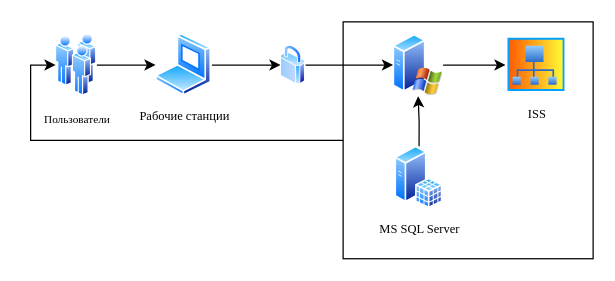
Image size: 615x281. Some labels were removed from this diagram. Here are the shapes that lost their labels. From the top down, the box of each, then its label:
(280, 45, 305, 84): Защищенное подключение
(392, 33, 442, 96): Windows Server
